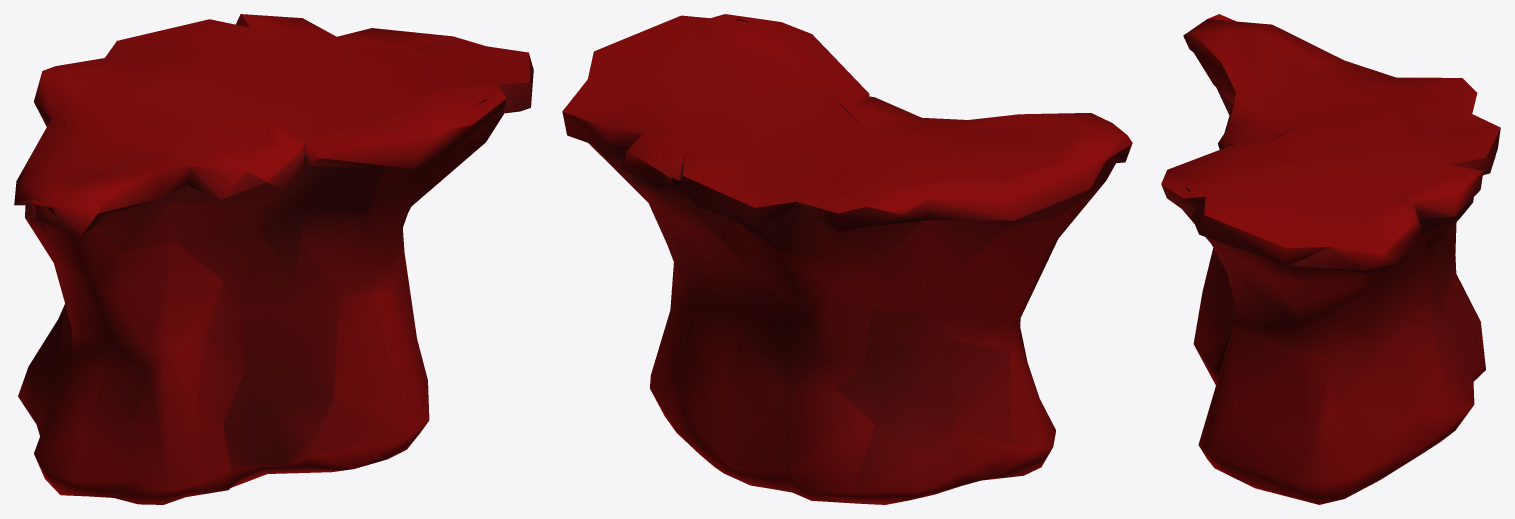
File: env_siderock_medium03_lod3.fbx
3 views of the same model, side by side, from view 1: azimuth 30°, elevation 25°; view 2: azimuth 150°, elevation 25°; view 3: azimuth 270°, elevation 25° (orthographic). The views are drawn at different scales.
Visible parts, largest first — view 1: env_siderock_medium03_lod3; view 2: env_siderock_medium03_lod3; view 3: env_siderock_medium03_lod3.
Boxes of the visible parts, box(x1,y1,x2,y2) form: env_siderock_medium03_lod3: box(14, 14, 533, 504); env_siderock_medium03_lod3: box(562, 14, 1132, 504); env_siderock_medium03_lod3: box(1161, 14, 1500, 504).
Size of the model in its own units: 107 by 70.41 by 66.45.
